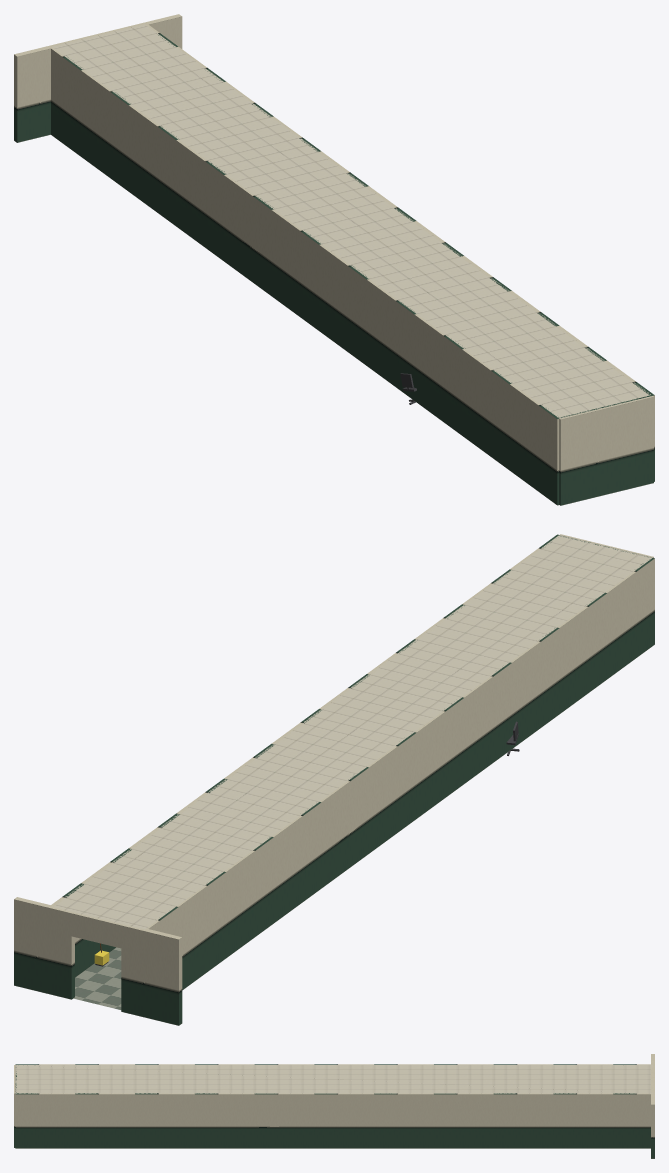
The model's file is corridor.glb.
The picture shows the model from 3 angles, top to bottom: view 1: azimuth 30°, elevation 25°; view 2: azimuth 150°, elevation 25°; view 3: azimuth 270°, elevation 25°; orthographic projection. The views are drawn at different scales.
Visible parts, largest first — view 1: walls, ceiling; view 2: walls, ceiling, floor; view 3: walls, ceiling.
Boxes of the visible parts, x1=… form: walls: x1=14, y1=14, x2=654, y2=505; ceiling: x1=51, y1=24, x2=650, y2=418; walls: x1=14, y1=534, x2=654, y2=1025; ceiling: x1=52, y1=535, x2=652, y2=929; floor: x1=73, y1=947, x2=121, y2=1009; walls: x1=14, y1=1054, x2=654, y2=1158; ceiling: x1=15, y1=1065, x2=652, y2=1093.
Size of the model in its own units: 6 by 3.12 by 32.17.
17 materials, 5 textured.
